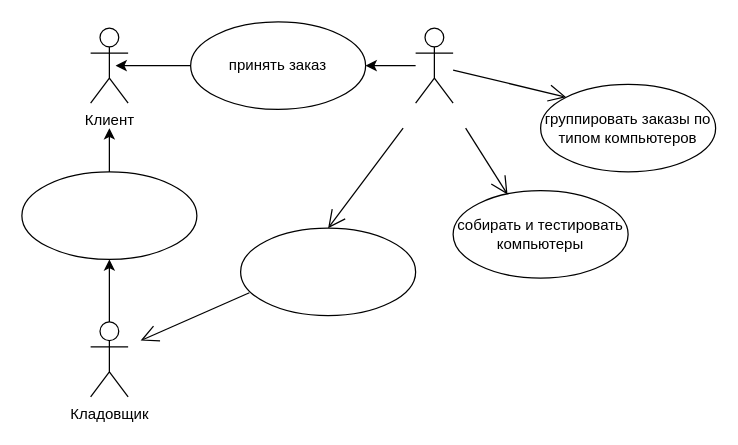
This 738x445 diagram has some shape labels left out. Each missing label, with the centre of its shape:
отгружать клиентам заказы: point 109,215
Сотрудник: point 433,65
упаковывать компьютеры согласно заказам: point 327,271
